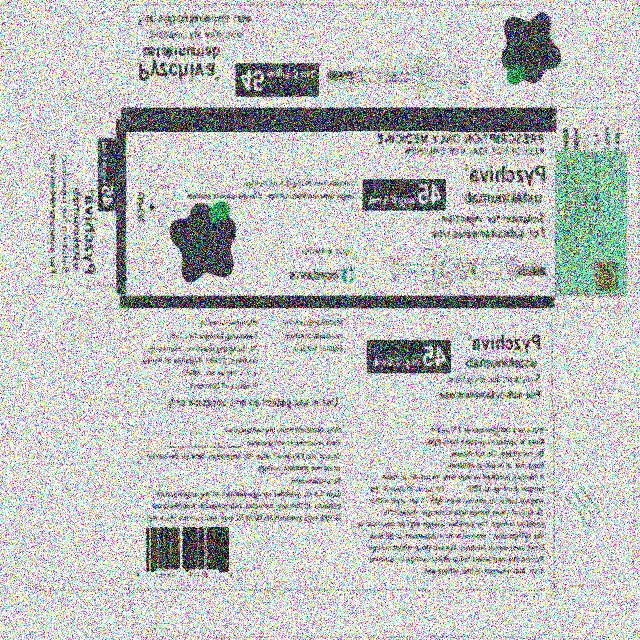Artwork: (0, 0, 640, 640)
Back_Panel: (128, 415, 554, 590)
Bottom_Part: (556, 119, 639, 298)
Extra_Areas: (130, 589, 556, 639), (38, 412, 128, 590), (555, 415, 635, 589), (553, 296, 624, 413), (552, 6, 622, 119), (59, 5, 127, 120), (62, 294, 128, 412), (1, 410, 38, 587)
Front_Panel: (128, 119, 555, 296)
Side_Panel: (128, 295, 554, 414), (128, 6, 554, 118)
Top_Panel: (40, 120, 127, 291)
